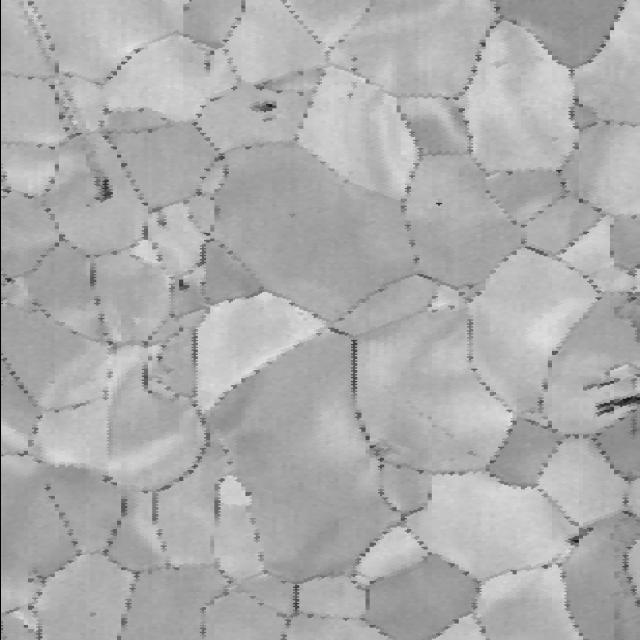good_void: (587, 393, 640, 419), (89, 168, 121, 205), (158, 272, 196, 296), (246, 98, 277, 122), (565, 525, 594, 547), (582, 376, 623, 391), (152, 210, 172, 230), (98, 469, 118, 488), (342, 87, 357, 102), (83, 609, 100, 620), (464, 447, 478, 459), (284, 211, 300, 221), (430, 200, 444, 209)
